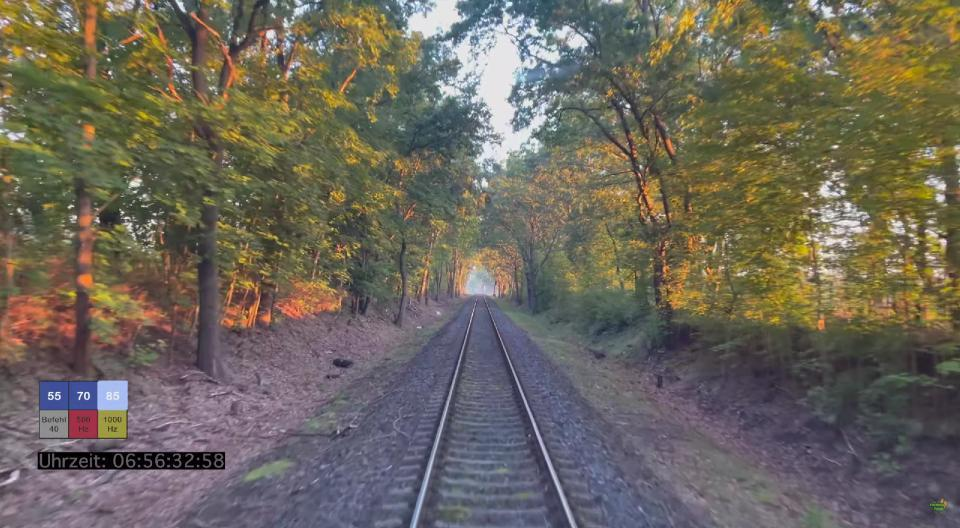Plant: (244, 459, 294, 482), (439, 504, 469, 521), (514, 494, 531, 500), (496, 469, 507, 474)
